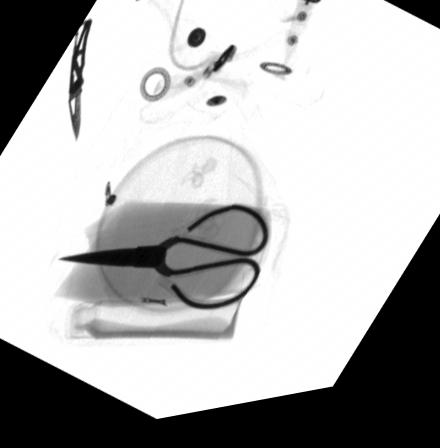Knife: (69, 22, 92, 145)
Scissors: (58, 211, 269, 319)
